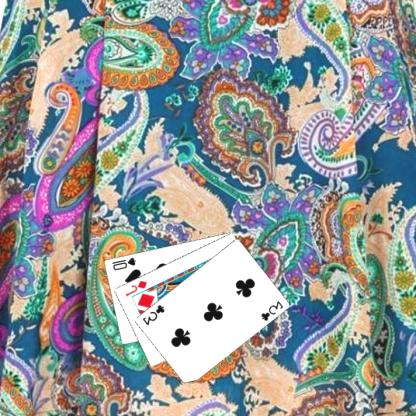10S: (111, 255, 139, 271)
3C: (141, 302, 167, 327), (260, 298, 286, 322)
JD: (124, 278, 150, 298)
